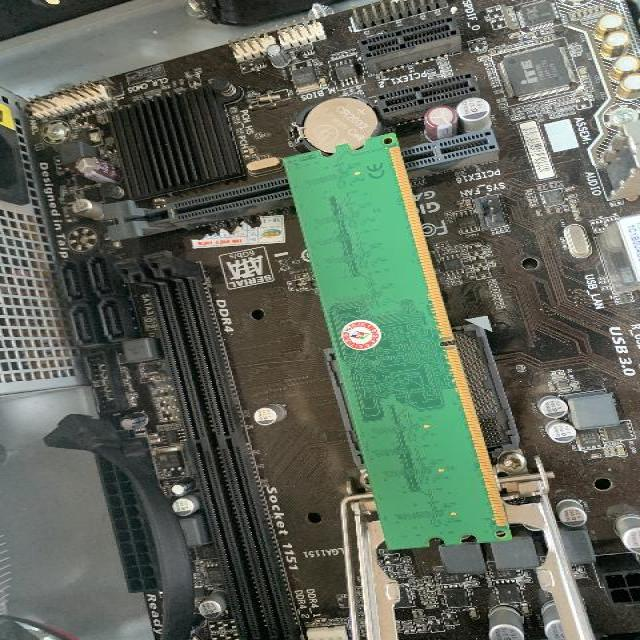Mainboard: (37, 0, 640, 640)
RAM: (279, 128, 513, 552)
